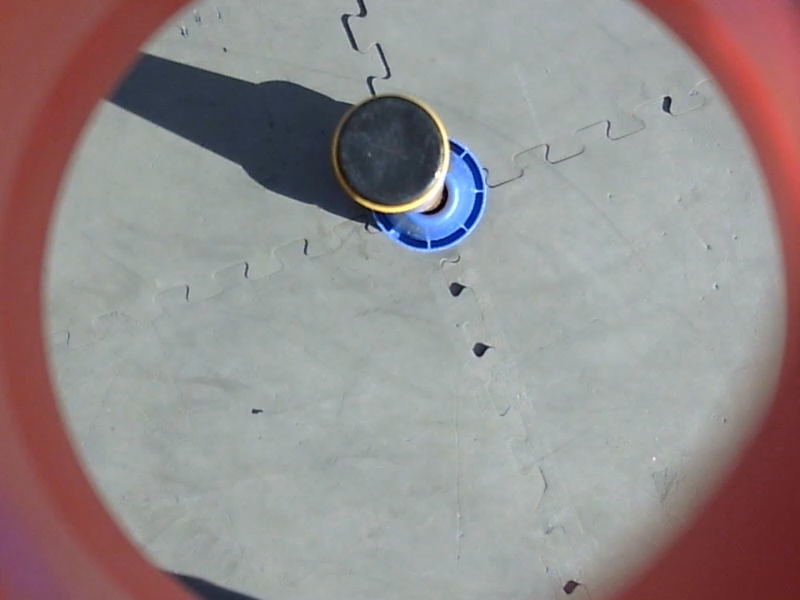tip: (324, 89, 457, 221)
